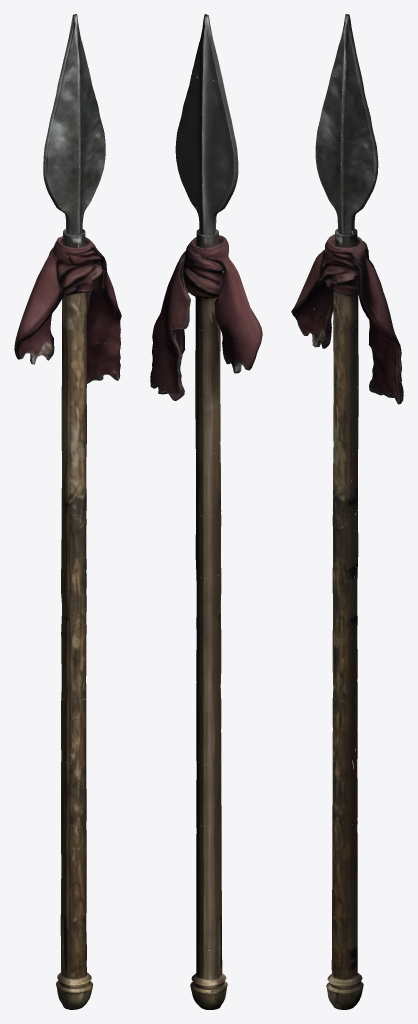
The model's file is w_ruin_spear.glb.
3 renders of one model, left to right at view 1: azimuth 30°, elevation 25°; view 2: azimuth 150°, elevation 25°; view 3: azimuth 330°, elevation 25°, orthographic.
Parts seen in each view (by area): view 1: geometry_0; view 2: geometry_0; view 3: geometry_0.
Boxes of the visible parts, x1=… form: geometry_0: x1=14, y1=14, x2=121, y2=1009; geometry_0: x1=150, y1=14, x2=262, y2=1009; geometry_0: x1=291, y1=14, x2=403, y2=1009.
Bounding box in the file's own units: 0.2341 × 2.1 × 0.1051.
1 material, 1 textured.
